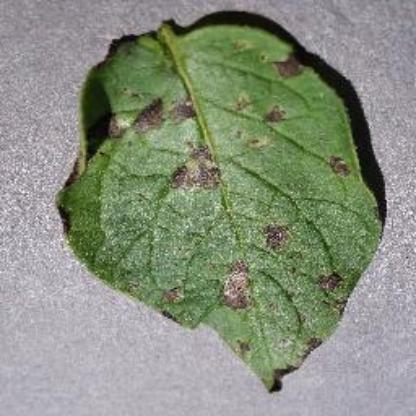Early-Blight: (57, 20, 386, 392)
